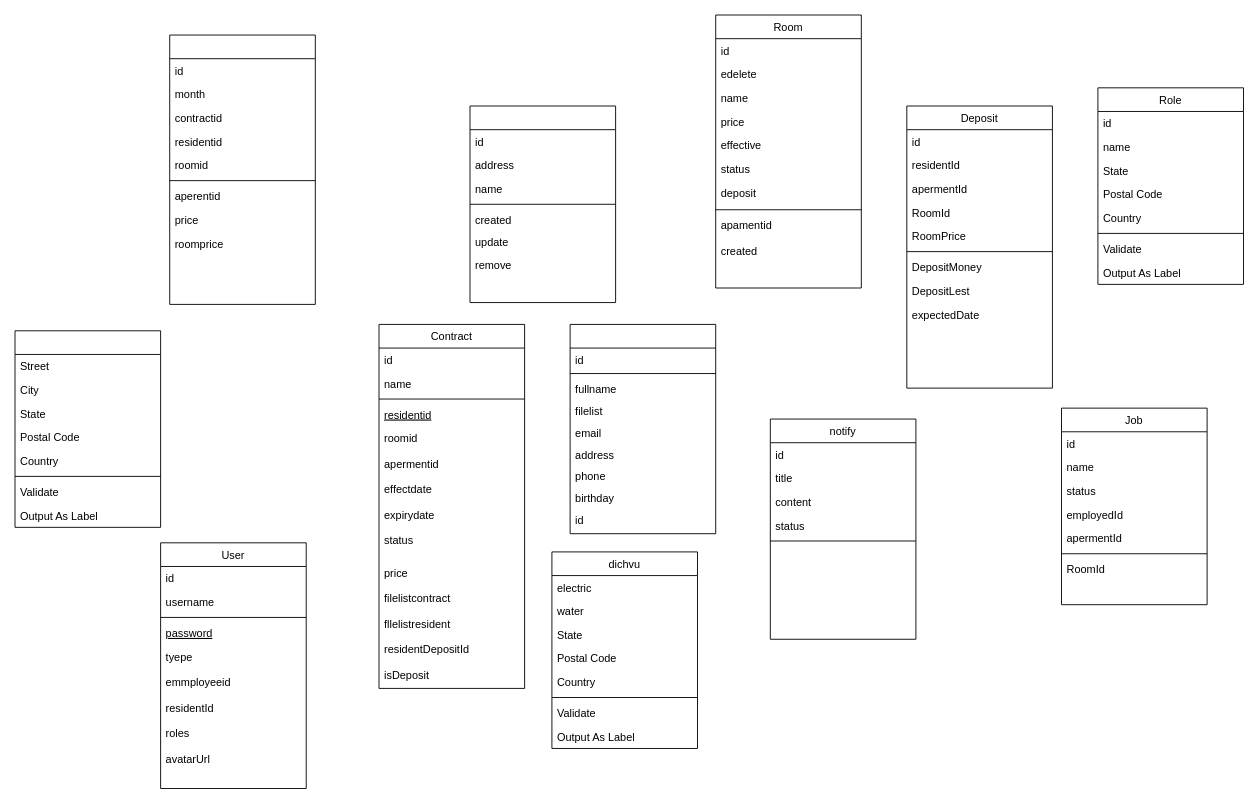
Some shapes in this 1259 by 804 pixel diagram are drawn without their labels. The box of each missing label's shape, as (x1, y1, x2, y2) in pixels:
Aparment: (469, 105, 616, 303)
Bill: (169, 34, 315, 304)
Property: (14, 330, 161, 527)
Resident: (569, 324, 716, 534)
